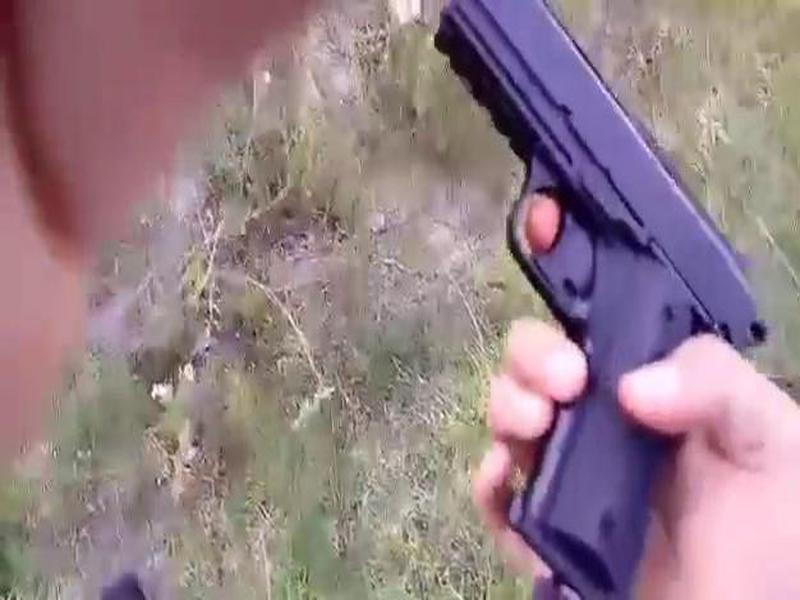Pistola: (419, 2, 776, 591)
